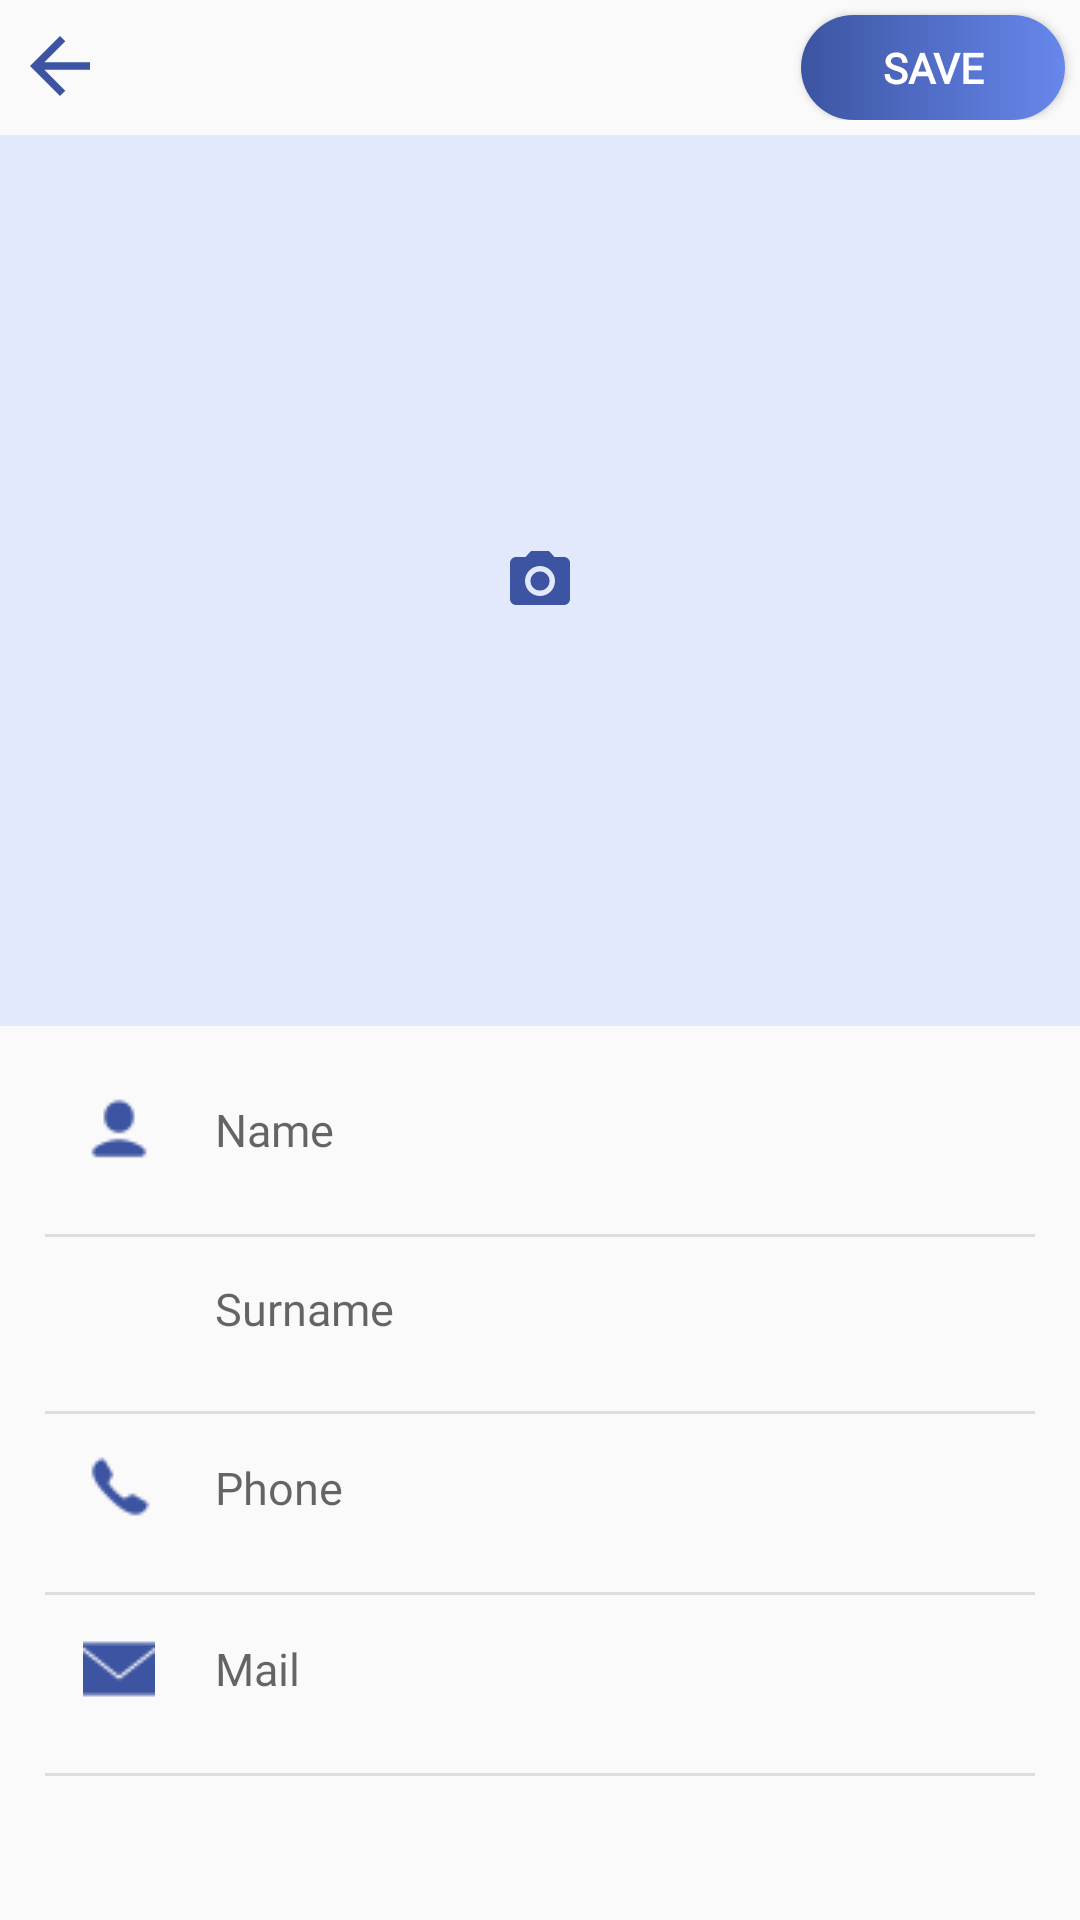

Screen size 1080 x 1920. Icon name, then its center in pixels as (x=x, y=y):
arrow back: (x=60, y=66)
